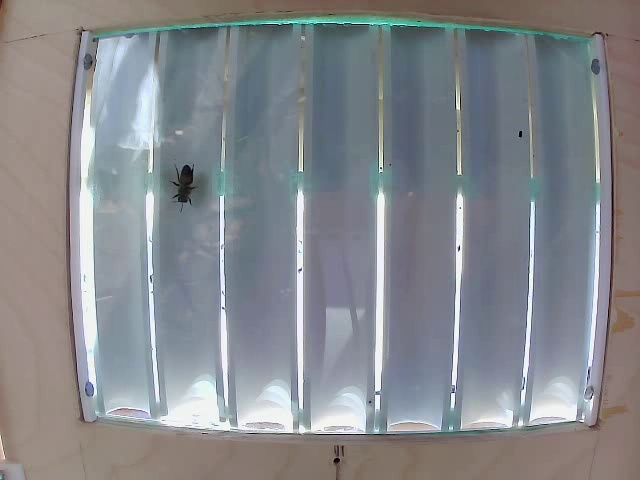bee: (171, 162, 197, 199)
